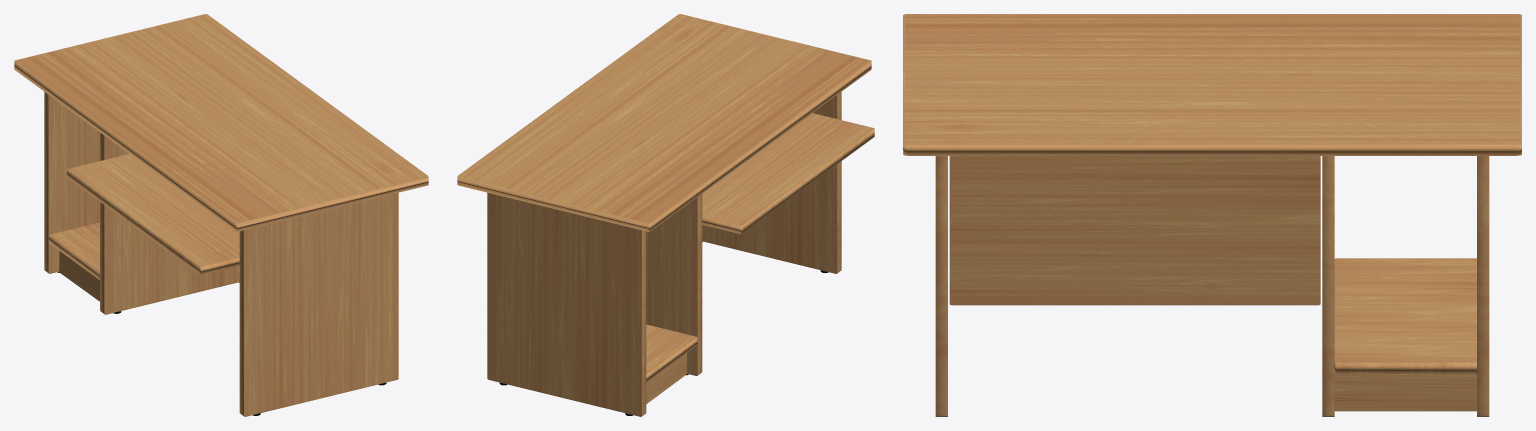
File: birou_light.fbx
3 views of the same model, side by side, from view 1: azimuth 30°, elevation 25°; view 2: azimuth 150°, elevation 25°; view 3: azimuth 270°, elevation 25° (orthographic). The views are drawn at different scales.
Visible parts, largest first — view 1: BasePlank.009; view 2: BasePlank.009; view 3: BasePlank.009.
Boxes of the visible parts, x1,y1,x2,y2 form: BasePlank.009: (14,14,428,416); BasePlank.009: (457,14,874,416); BasePlank.009: (903,14,1521,416).
Size of the model in its own units: 880 by 825 by 1600.
